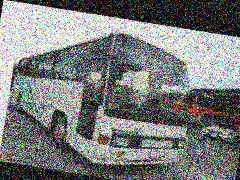bus: (3, 16, 206, 178)
